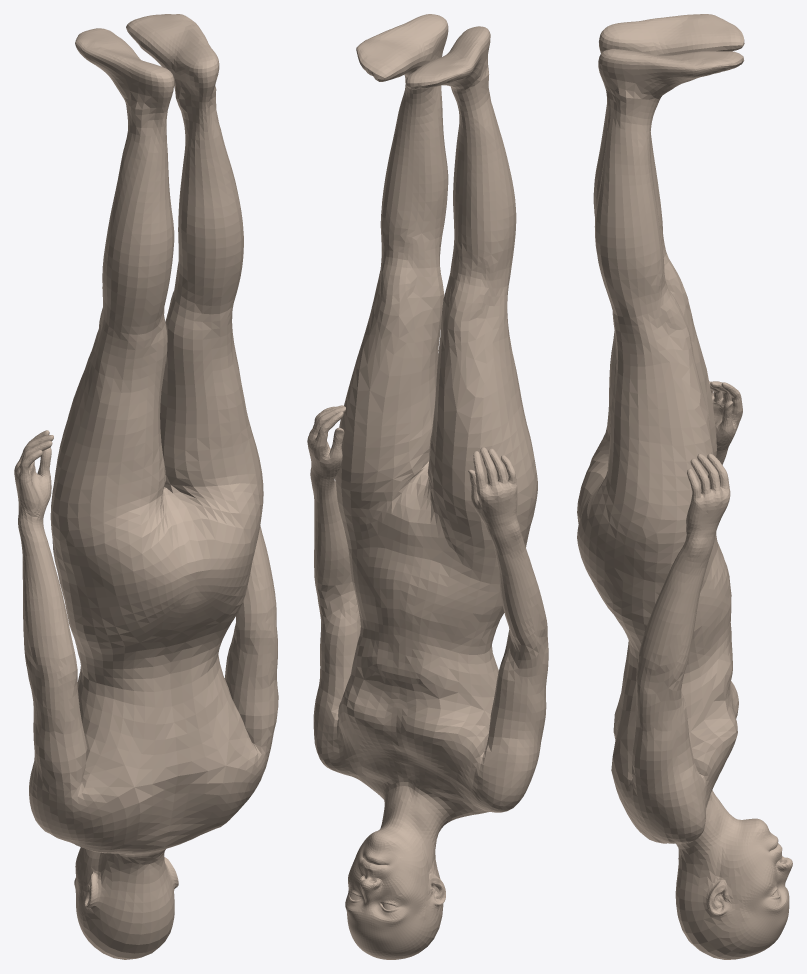
File: avatar_teenager.glb
3 renders of one model, left to right at view 1: azimuth 30°, elevation 25°; view 2: azimuth 150°, elevation 25°; view 3: azimuth 270°, elevation 25°, orthographic. The views are drawn at different scales.
Visible parts, largest first — view 1: world; view 2: world; view 3: world.
Boxes of the visible parts, box(x1,y1,x2,y2) form: world: box(14, 14, 278, 959); world: box(307, 14, 548, 959); world: box(577, 14, 792, 959).
Bounding box in the file's own units: 0.4487 × 1.68 × 0.3602.
